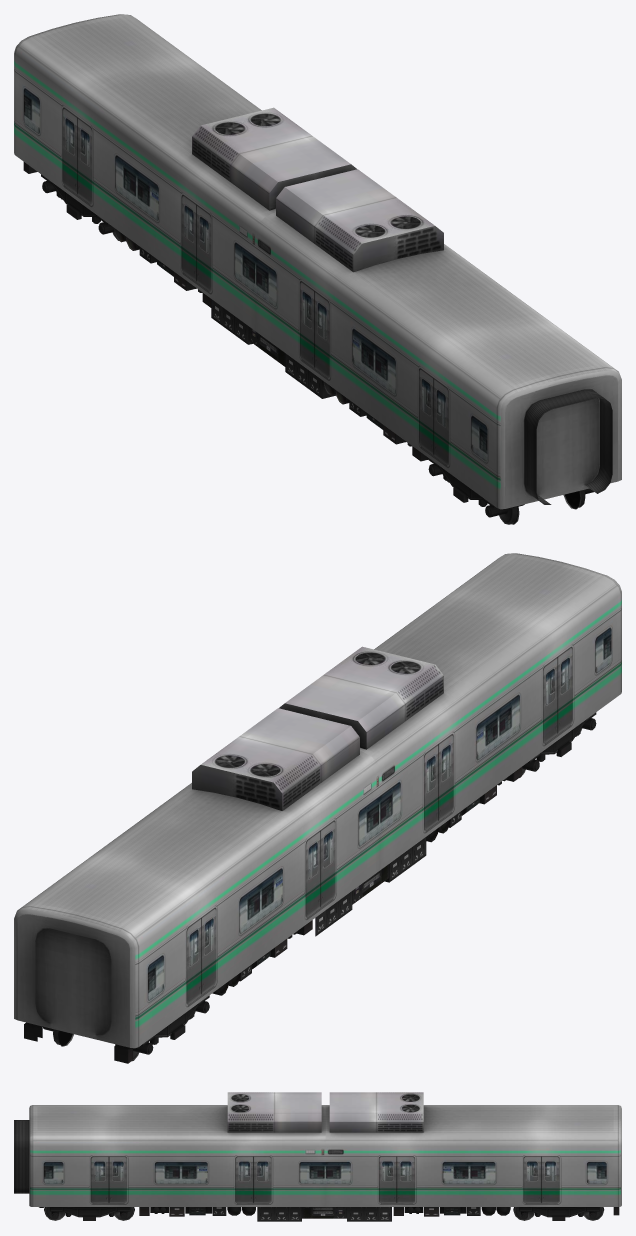
Rendered from body.glb.
3 renders of one model, top to bottom at view 1: azimuth 30°, elevation 25°; view 2: azimuth 150°, elevation 25°; view 3: azimuth 270°, elevation 25°, orthographic. The views are drawn at different scales.
Visible parts, largest first — view 1: Subway_Body; view 2: Subway_Body; view 3: Subway_Body.
Part boxes in pixels (<box>): Subway_Body: <box>14,14,621,524</box>; Subway_Body: <box>14,553,621,1063</box>; Subway_Body: <box>14,1092,621,1221</box>.
Bounding box in the file's own units: 2.86 × 3.9 × 20.
Materials: 1 (1 with a texture image).
